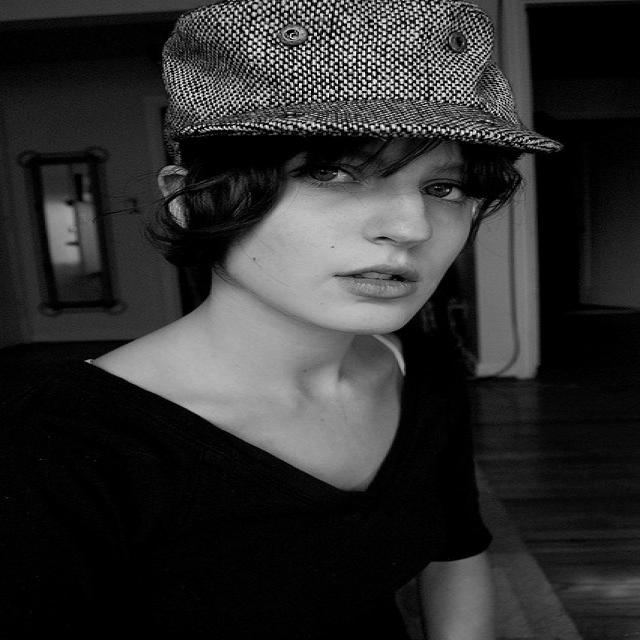monkey: (4, 3, 570, 631)
